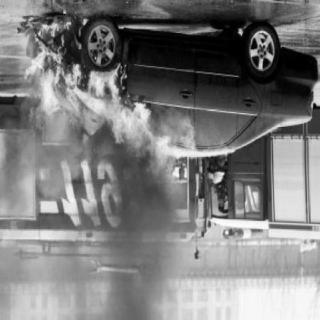Fire: (21, 18, 170, 195)
